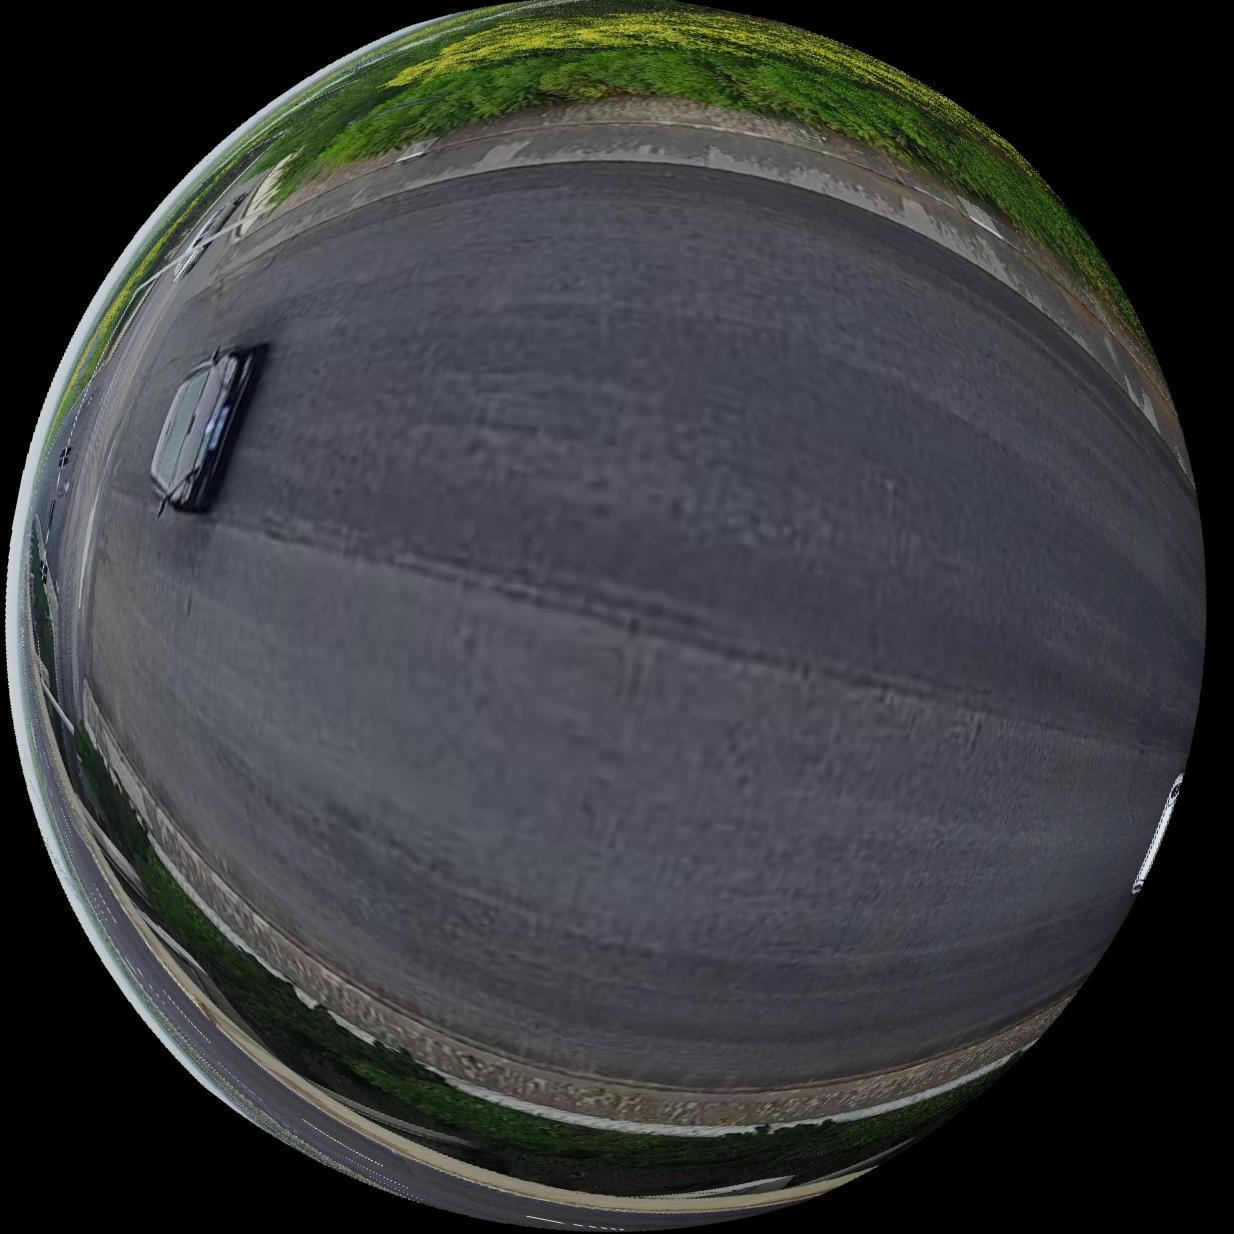cars: (147, 342, 268, 518), (173, 192, 245, 280), (1135, 773, 1185, 895)
trees: (73, 728, 988, 1200), (246, 0, 1126, 299)
